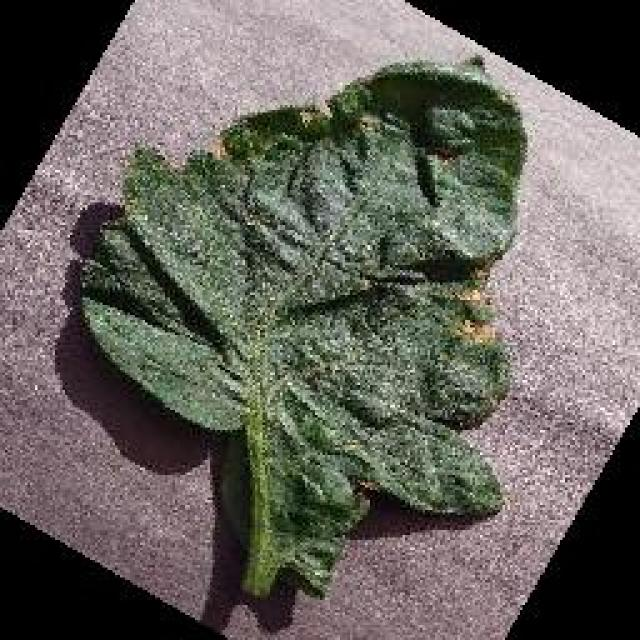Tomato___Target_Spot: (82, 58, 525, 595)
